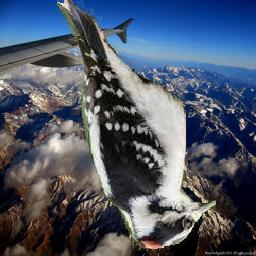Woodpecker: (57, 1, 227, 252)
